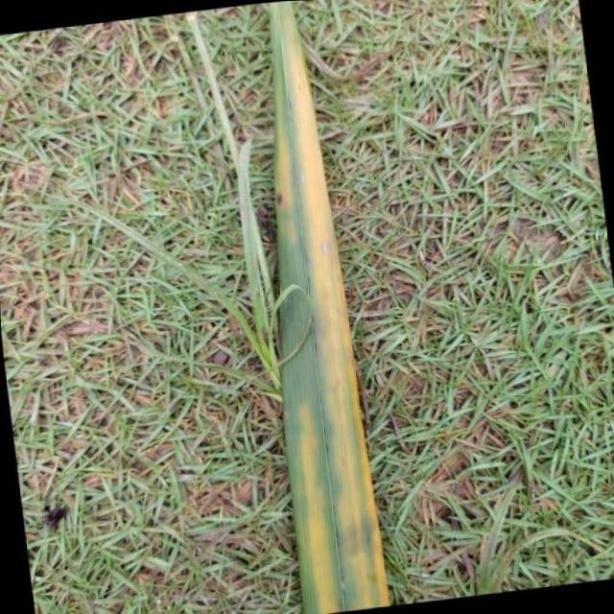Megnesium: (262, 0, 390, 614)
